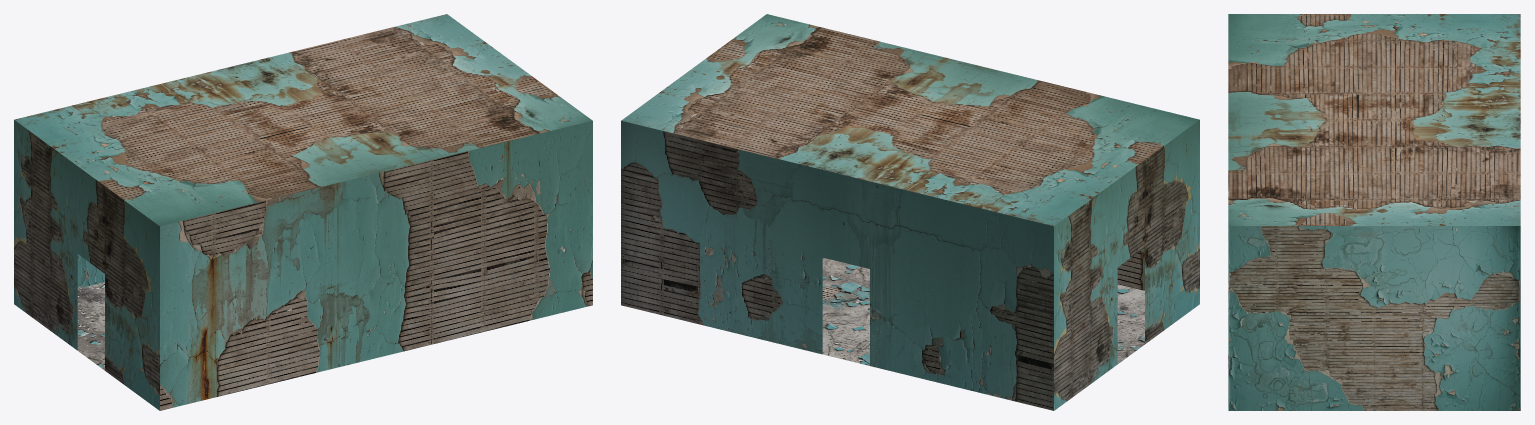
File: room-a.glb
3 renders of one model, left to right at view 1: azimuth 30°, elevation 25°; view 2: azimuth 150°, elevation 25°; view 3: azimuth 270°, elevation 25°, orthographic.
Visible parts, largest first — view 1: walls, ceiling, floor; view 2: walls, ceiling, floor; view 3: ceiling, walls.
Part boxes in pixels (x1=…): walls: x1=14, y1=120, x2=592, y2=410; ceiling: x1=14, y1=14, x2=592, y2=226; floor: x1=77, y1=282, x2=104, y2=370; walls: x1=621, y1=120, x2=1199, y2=410; ceiling: x1=621, y1=14, x2=1199, y2=226; floor: x1=822, y1=257, x2=1144, y2=365; ceiling: x1=1228, y1=14, x2=1520, y2=225; walls: x1=1228, y1=226, x2=1520, y2=410.
Size of the model in its own units: 9.81 by 4 by 5.72.
6 materials, 6 textured.
